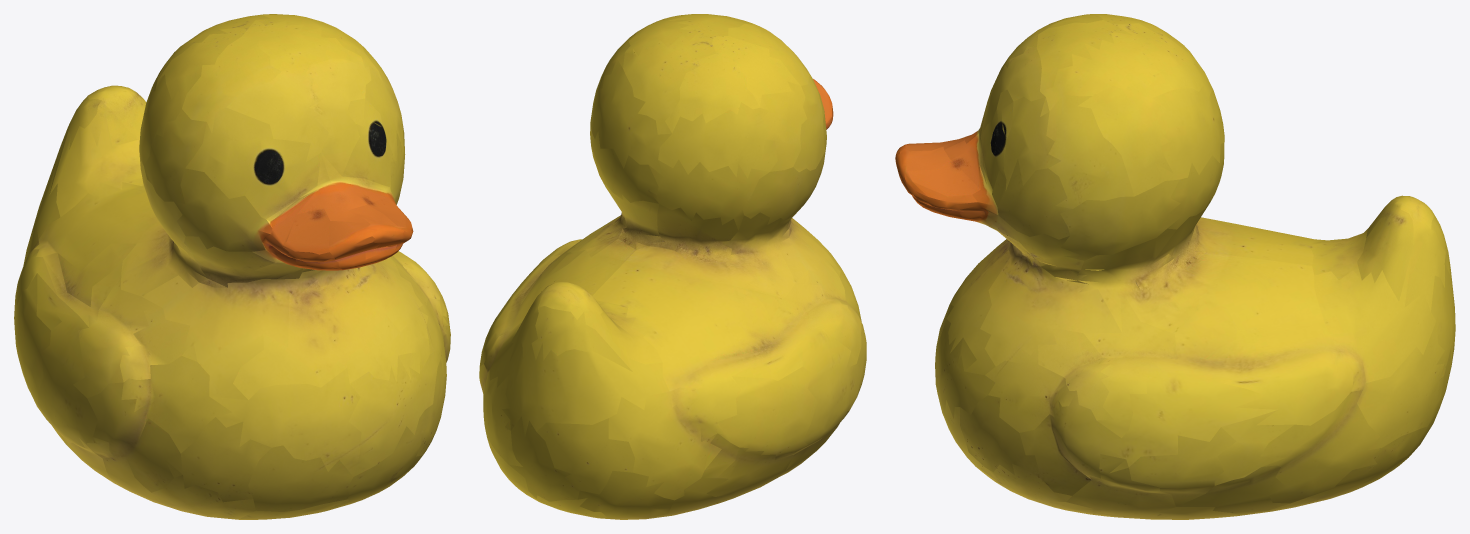
Rendered from paperella.glb.
The picture shows the model from 3 angles, left to right: view 1: azimuth 30°, elevation 25°; view 2: azimuth 150°, elevation 25°; view 3: azimuth 270°, elevation 25°; orthographic projection. The views are drawn at different scales.
Parts seen in each view (by area): view 1: Mesh_0; view 2: Mesh_0; view 3: Mesh_0.
Boxes of the visible parts, x1,y1,x2,y2 form: Mesh_0: (14,14,450,519); Mesh_0: (479,14,866,519); Mesh_0: (895,14,1455,519).
Bounding box in the file's own units: 1.36 × 1.64 × 1.9.
1 material, 1 textured.
